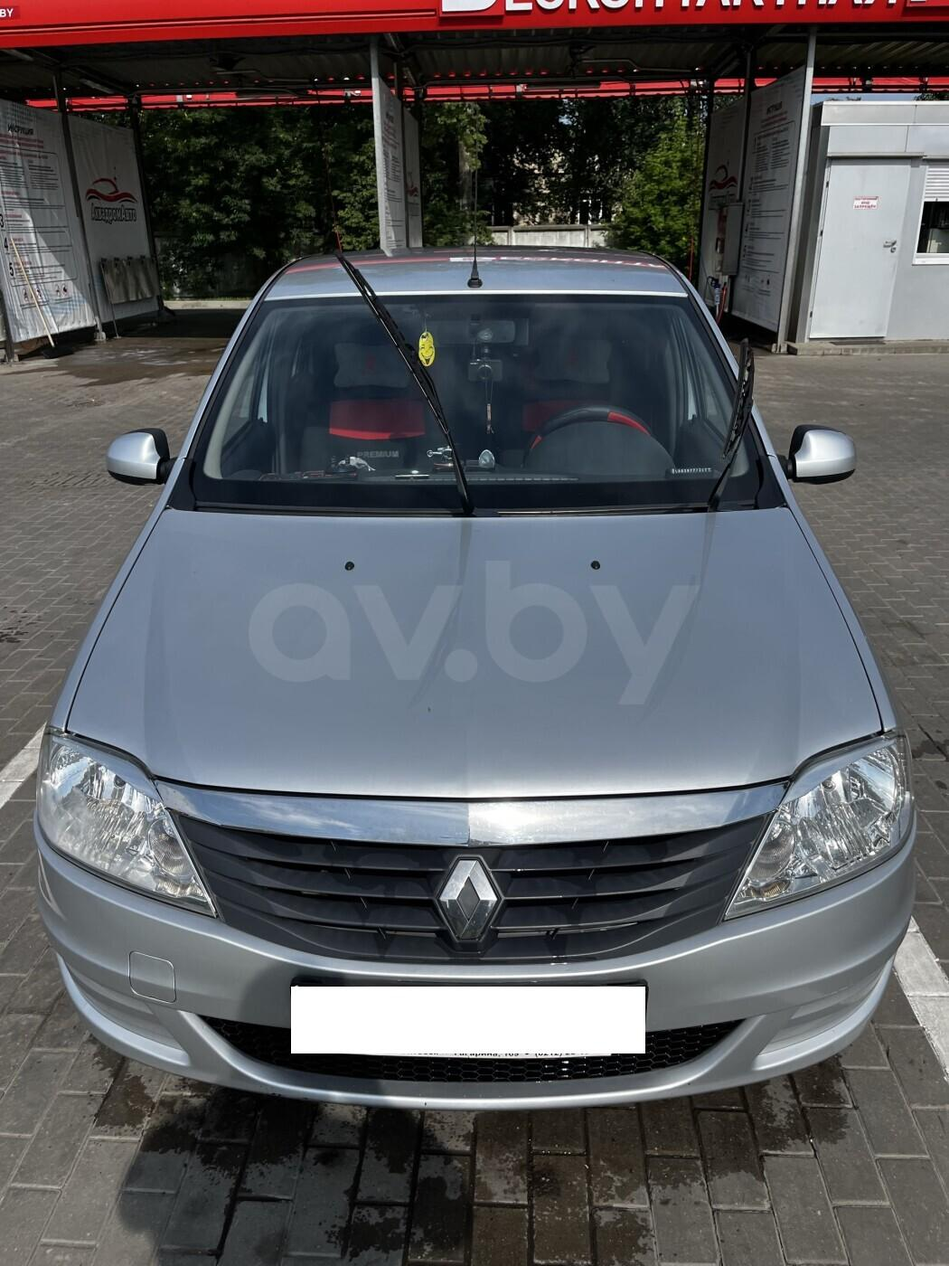Logan_2008-2015: (38, 241, 922, 1143)
